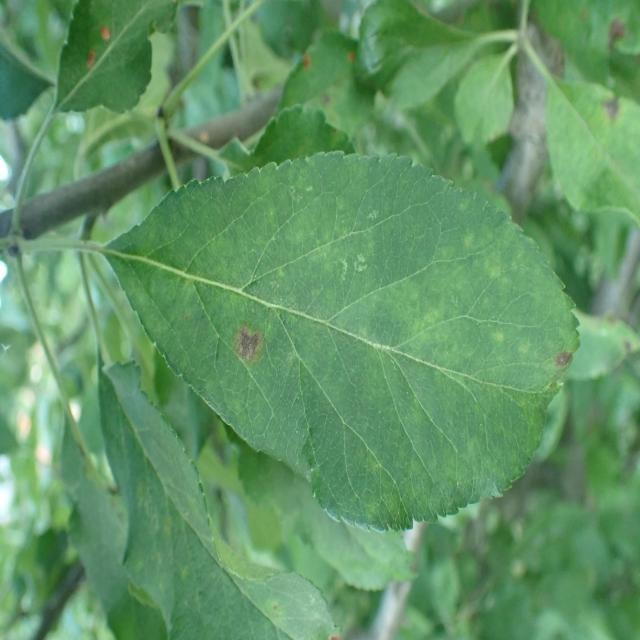scab: (171, 158, 574, 487)
